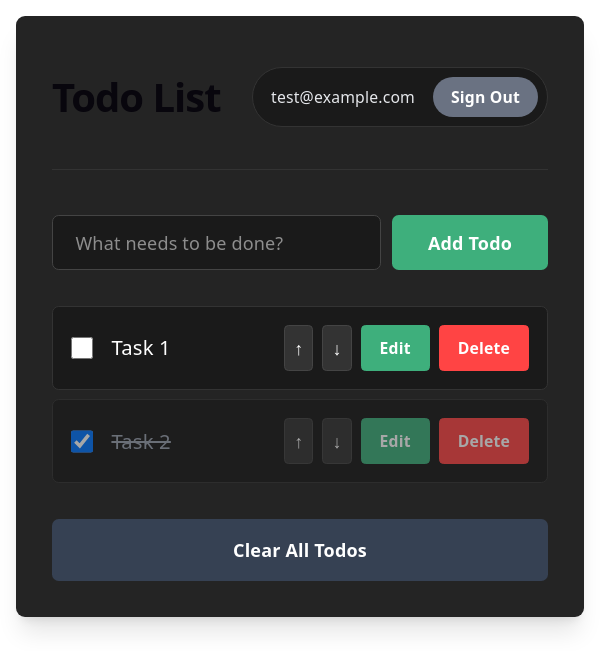
Scenario: Todo App Functions › handleDeleteTodo deletes a record from the database
The image size is (601, 651).
Click the button "Delete" in the row of "Task 1". click: (484, 348)
box: x1=439 y1=325 x2=529 y2=371
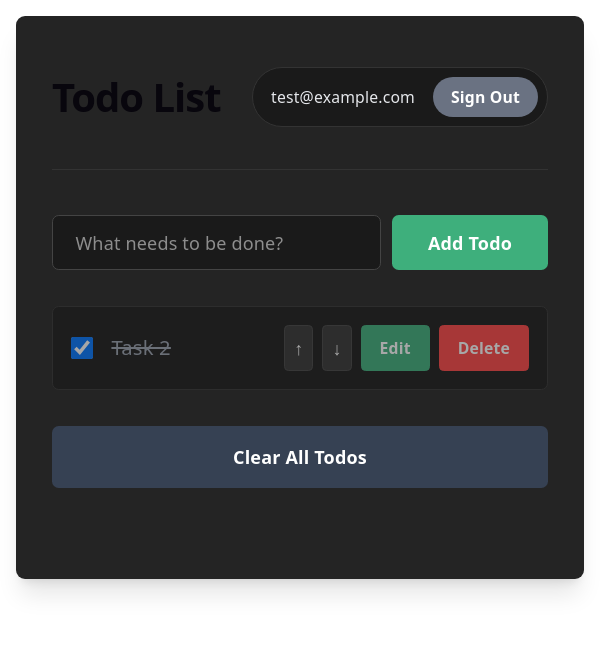
Expected: the text "Task 1" is gone
